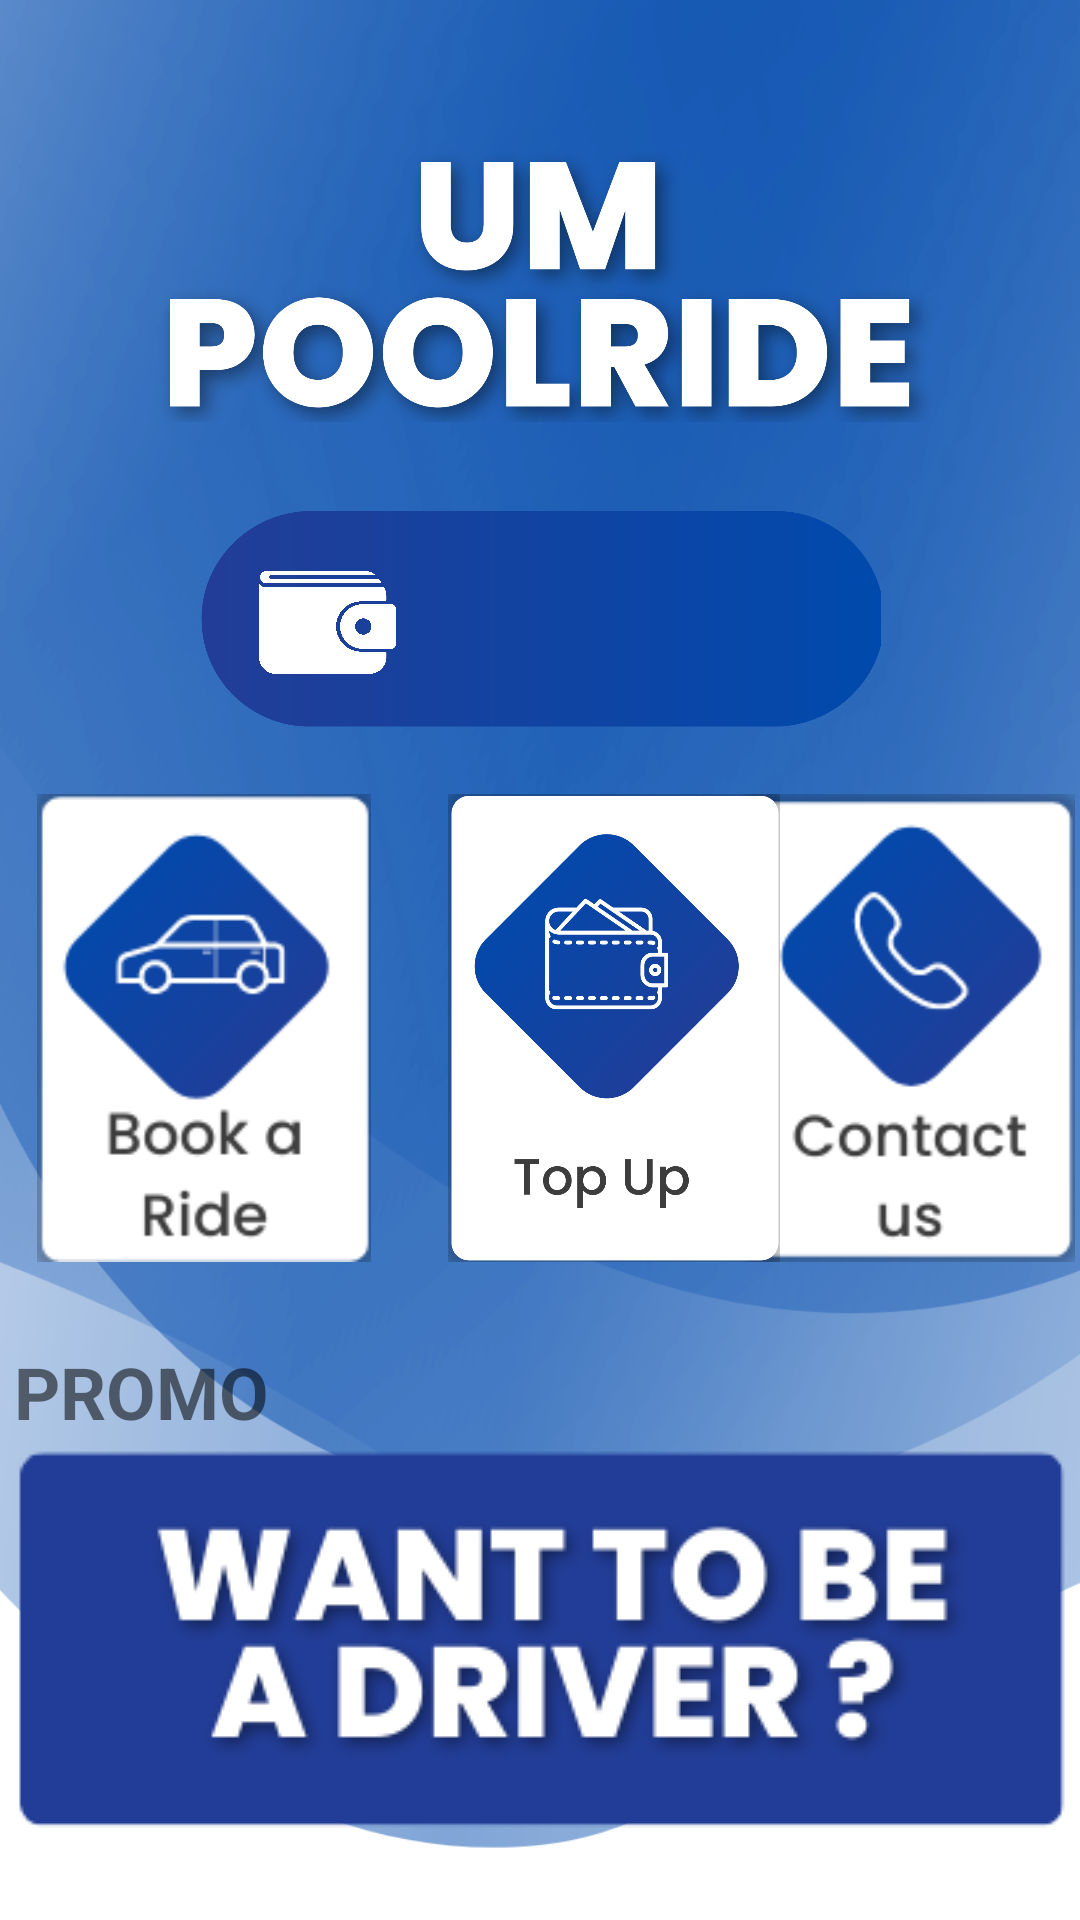

Screen size 1080 × 1920. Icon name, then its center in pixels as [x,y]:
walleticon: [327,622]
